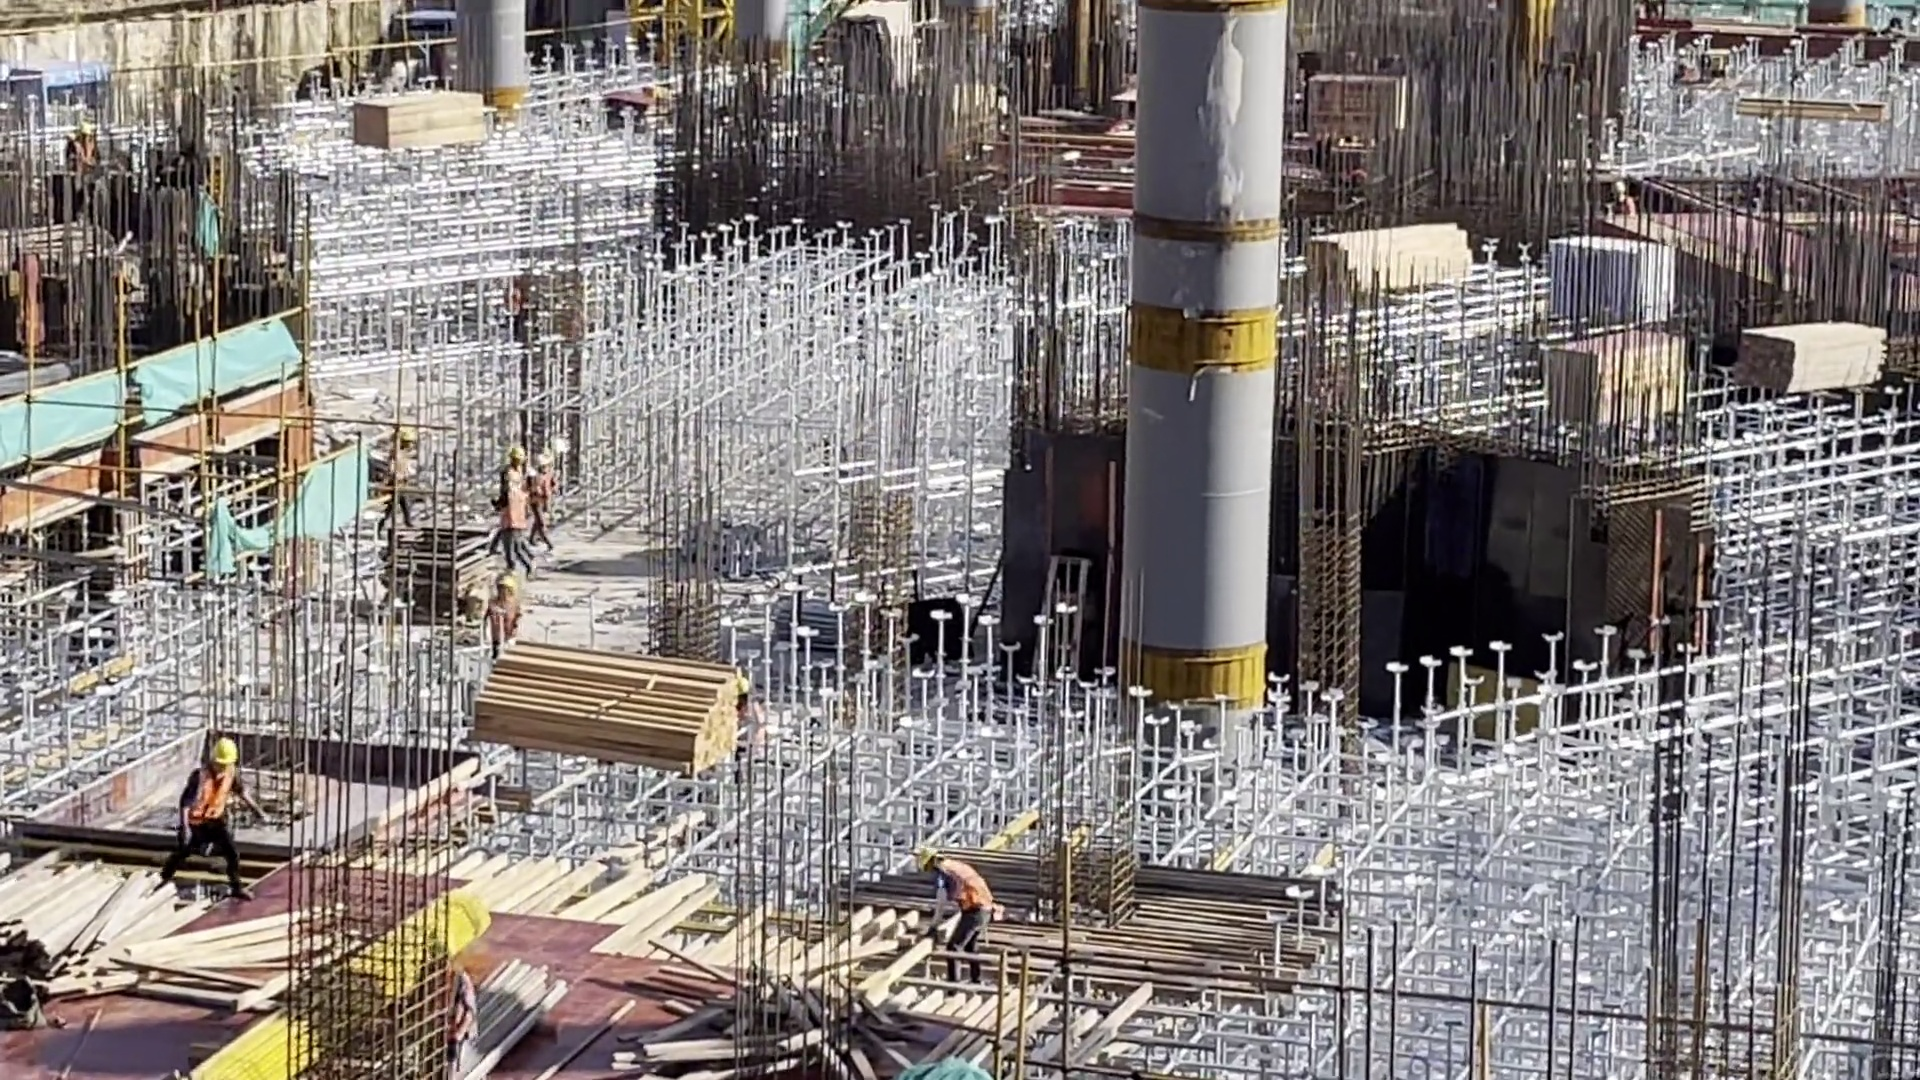board: (1543, 333, 1689, 441)
helmet: (214, 737, 237, 765), (920, 847, 938, 869)
person: (169, 743, 256, 904), (912, 853, 994, 991), (501, 469, 531, 569), (389, 429, 413, 523)
vest: (940, 860, 996, 920), (190, 765, 233, 819), (500, 492, 527, 537)
wood: (478, 646, 750, 770), (1316, 226, 1485, 301), (1746, 326, 1883, 393)
